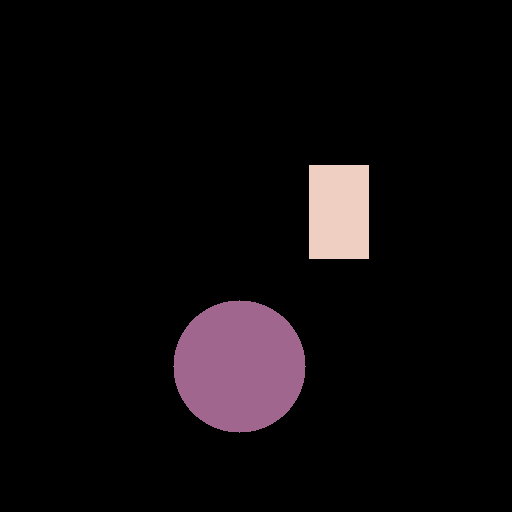circle: (173, 300, 305, 432)
rectangle: (309, 165, 368, 258)
